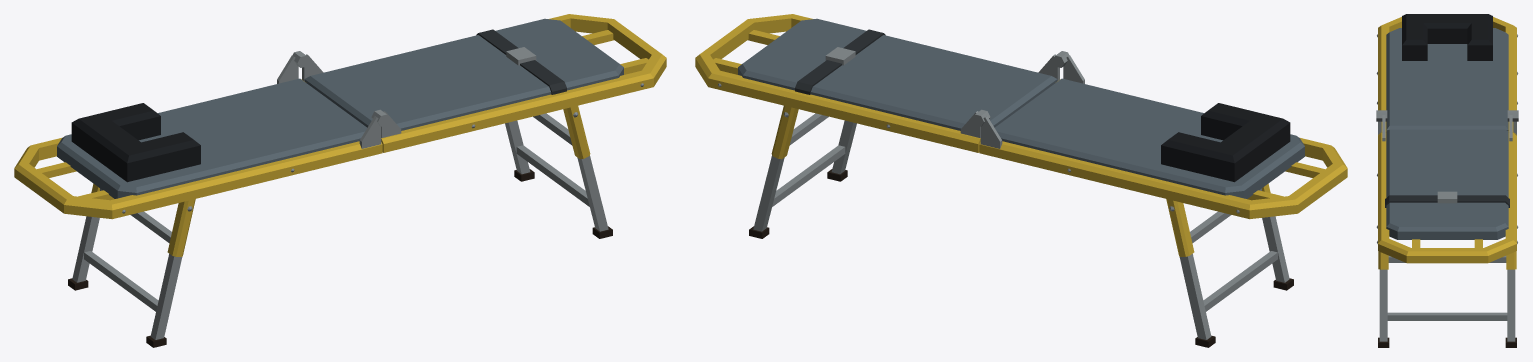
Rendered from touchline-stretcher-f08e97.glb.
The picture shows the model from 3 angles, left to right: view 1: azimuth 30°, elevation 25°; view 2: azimuth 150°, elevation 25°; view 3: azimuth 270°, elevation 25°; orthographic projection. The views are drawn at different scales.
Parts seen in each view (by area): view 1: foot-half, head-half, head-block-mesh, stand-head-mesh, stand-foot-mesh; view 2: foot-half, head-half, head-block-mesh, stand-head-mesh, stand-foot-mesh; view 3: foot-half, head-half, head-block-mesh, stand-foot-mesh.
Part boxes in pixels (x1,y1,x2,y2): foot-half: (301,14,666,152); head-half: (14,51,389,219); head-block-mesh: (71,103,200,182); stand-head-mesh: (68,183,195,347); stand-foot-mesh: (505,105,612,238); foot-half: (695,14,1060,152); head-half: (972,51,1347,219); head-block-mesh: (1161,103,1290,182); stand-head-mesh: (1166,183,1293,347); stand-foot-mesh: (749,105,856,238); foot-half: (1377,115,1517,263); head-half: (1376,17,1518,135); head-block-mesh: (1402,14,1492,60); stand-foot-mesh: (1376,225,1518,347).
Bounding box in the file's own units: 2 × 0.575 × 0.5.
